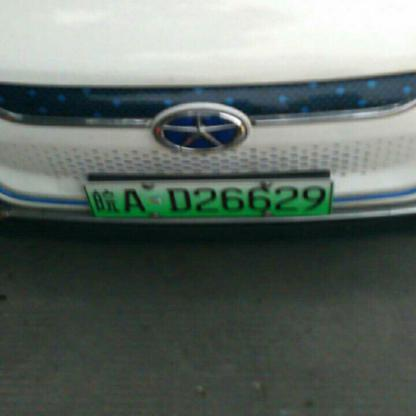lp: (85, 182, 333, 216)
